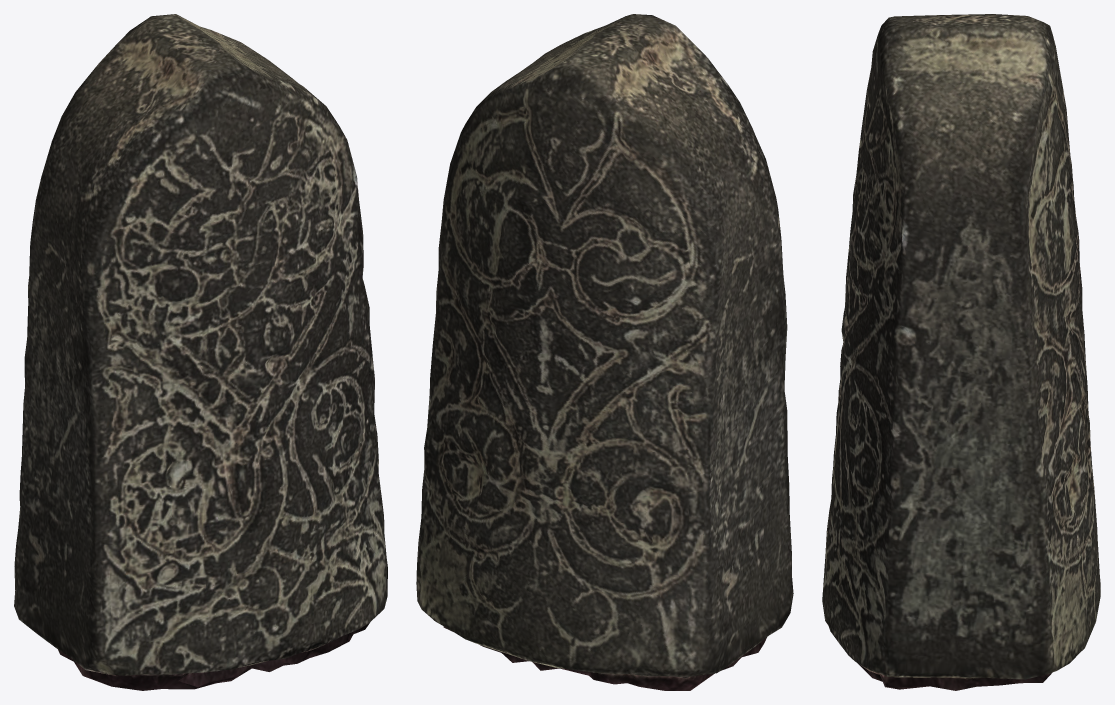
The model's file is Pawn_black.glb.
The picture shows the model from 3 angles, left to right: view 1: azimuth 30°, elevation 25°; view 2: azimuth 150°, elevation 25°; view 3: azimuth 270°, elevation 25°; orthographic projection.
Parts seen in each view (by area): view 1: Mesh_0; view 2: Mesh_0; view 3: Mesh_0.
Part boxes in pixels (<box>): Mesh_0: <box>14,14,387,690</box>; Mesh_0: <box>416,14,793,690</box>; Mesh_0: <box>822,14,1100,690</box>.
Size of the model in its own units: 0.0224 by 0.0429 by 0.0179.
Materials: 1 (1 with a texture image).
